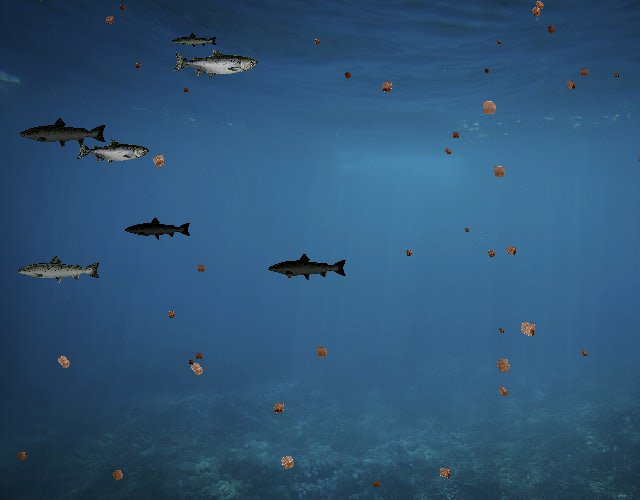Fish: (19, 117, 109, 149), (16, 254, 102, 285), (172, 48, 258, 79), (268, 253, 349, 282), (77, 139, 150, 165), (125, 216, 193, 241), (172, 32, 219, 49)
Pellet: (475, 94, 503, 122), (487, 160, 511, 184), (493, 381, 513, 401), (526, 1, 546, 21), (369, 477, 384, 491), (311, 36, 324, 49), (462, 224, 472, 234)
